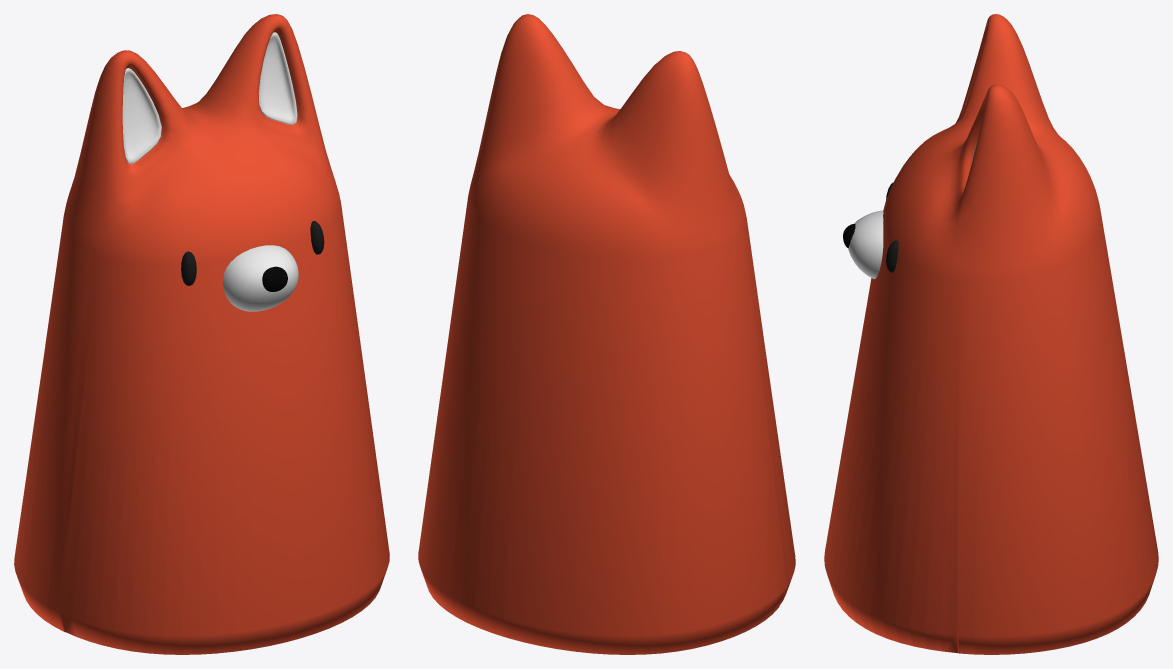
Rendered from piece.glb.
3 renders of one model, left to right at view 1: azimuth 30°, elevation 25°; view 2: azimuth 150°, elevation 25°; view 3: azimuth 270°, elevation 25°, orthographic. The views are drawn at different scales.
Parts seen in each view (by area): view 1: fox_large; view 2: fox_large; view 3: fox_large.
Part boxes in pixels (x1,y1,x2,y2): fox_large: [14, 14, 389, 654]; fox_large: [418, 14, 795, 654]; fox_large: [824, 14, 1158, 654].
Size of the model in its own units: 2.5 by 4.01 by 2.27.
